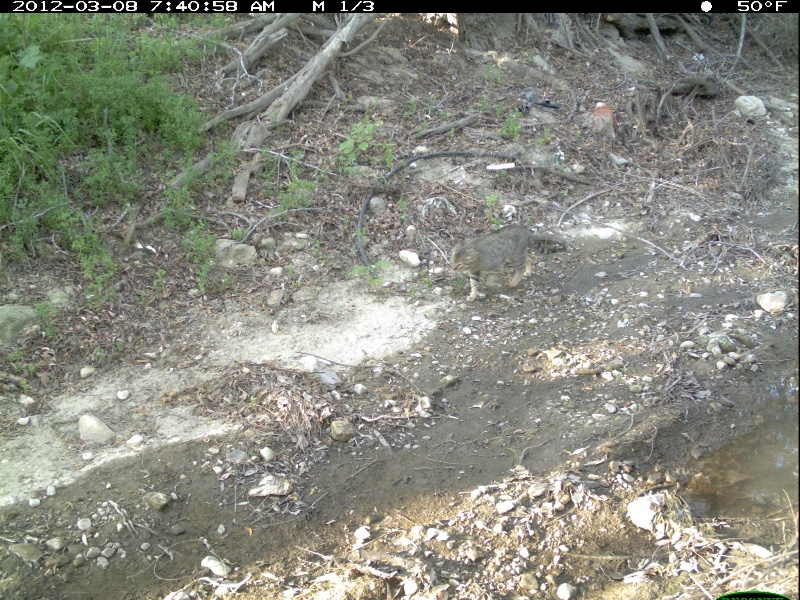cat: (437, 223, 566, 310)
